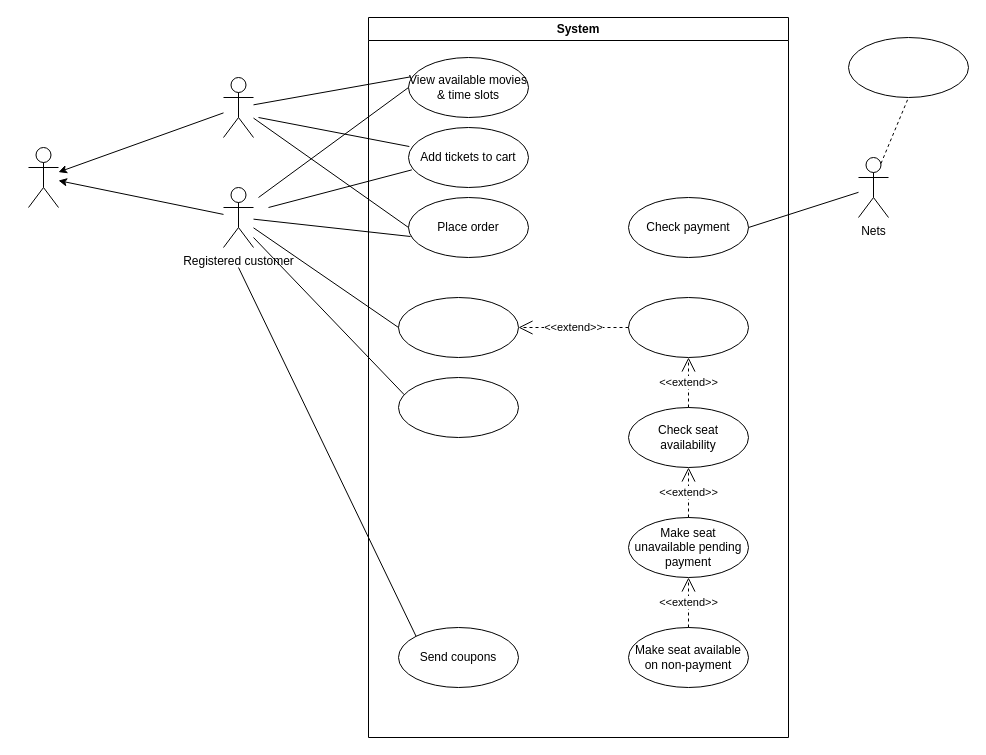
Image size: 986x755. Some labels were removed from this diagram. Each missing label, with the centre of its shape:
Anonymous customer: [238,107]
Cancel reservation: [458,407]
Customer: [43,177]
Reserve a seat: [458,327]
Select seat: [688,327]
Validate payment: [908,67]
